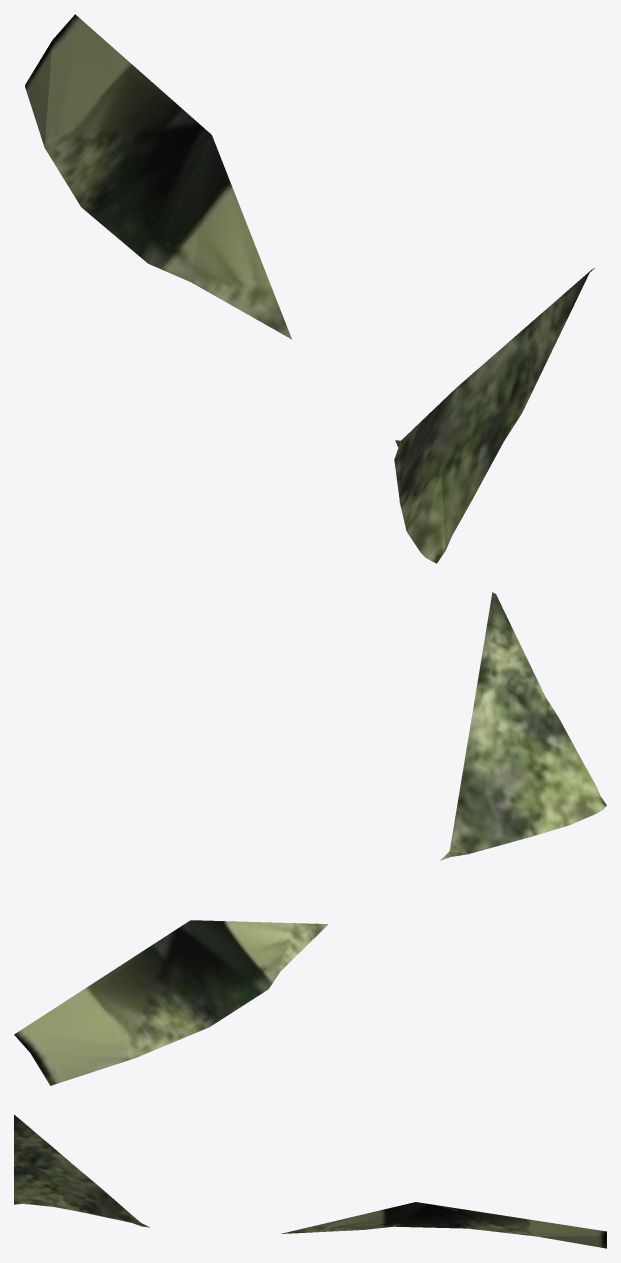
The picture shows the model from 3 angles, top to bottom: view 1: azimuth 30°, elevation 25°; view 2: azimuth 150°, elevation 25°; view 3: azimuth 270°, elevation 25°; orthographic projection. The views are drawn at different scales.
Size of the model in its own units: 5.37 by 5.66 by 23.6.
1 material, 1 textured.
